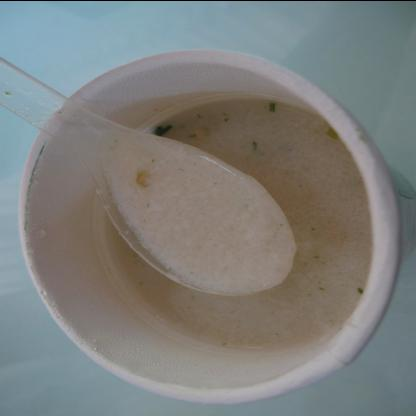Joke: (60, 75, 381, 371)
